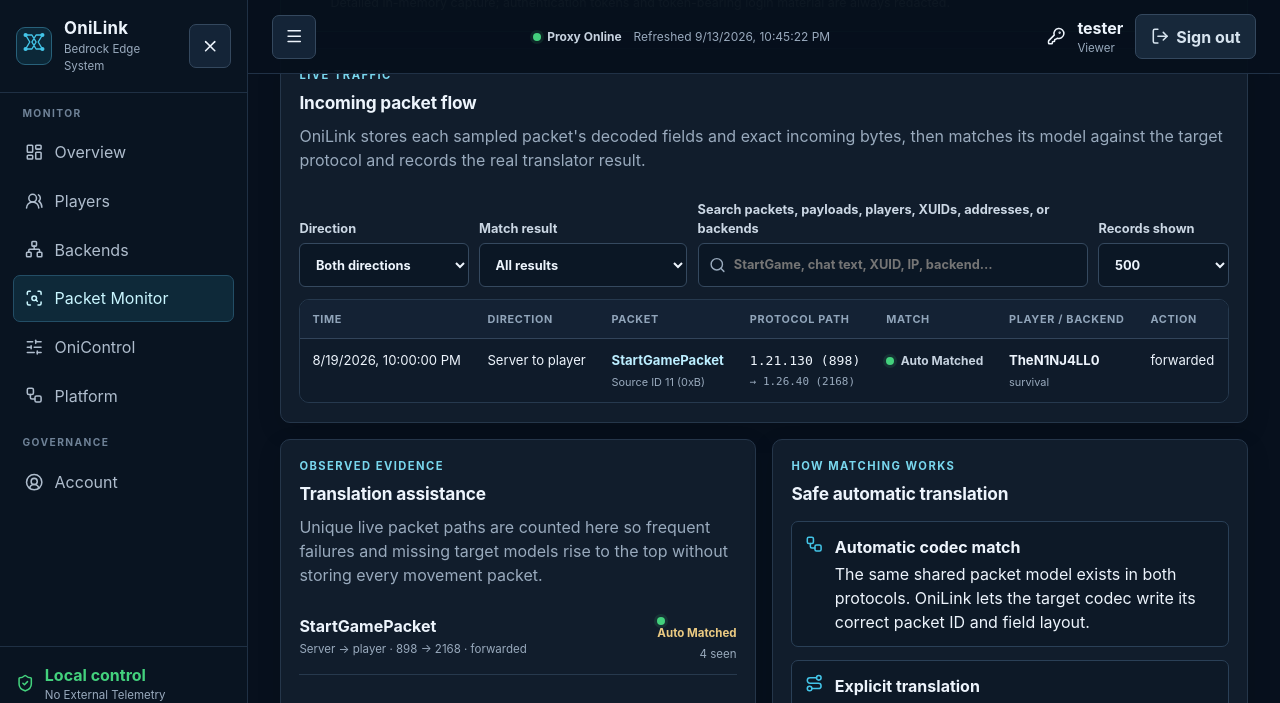
Test: monitoring features › shows live packet matches and the cross-version codec catalog
This screenshot has width=1280, height=703.
(page scrolled)
Expected: the text "Auto matched" is shown, [886,352,983,370]
Click the button "StartGamePacket" at (668, 361), box [612,351,724,371]
(page scrolled)
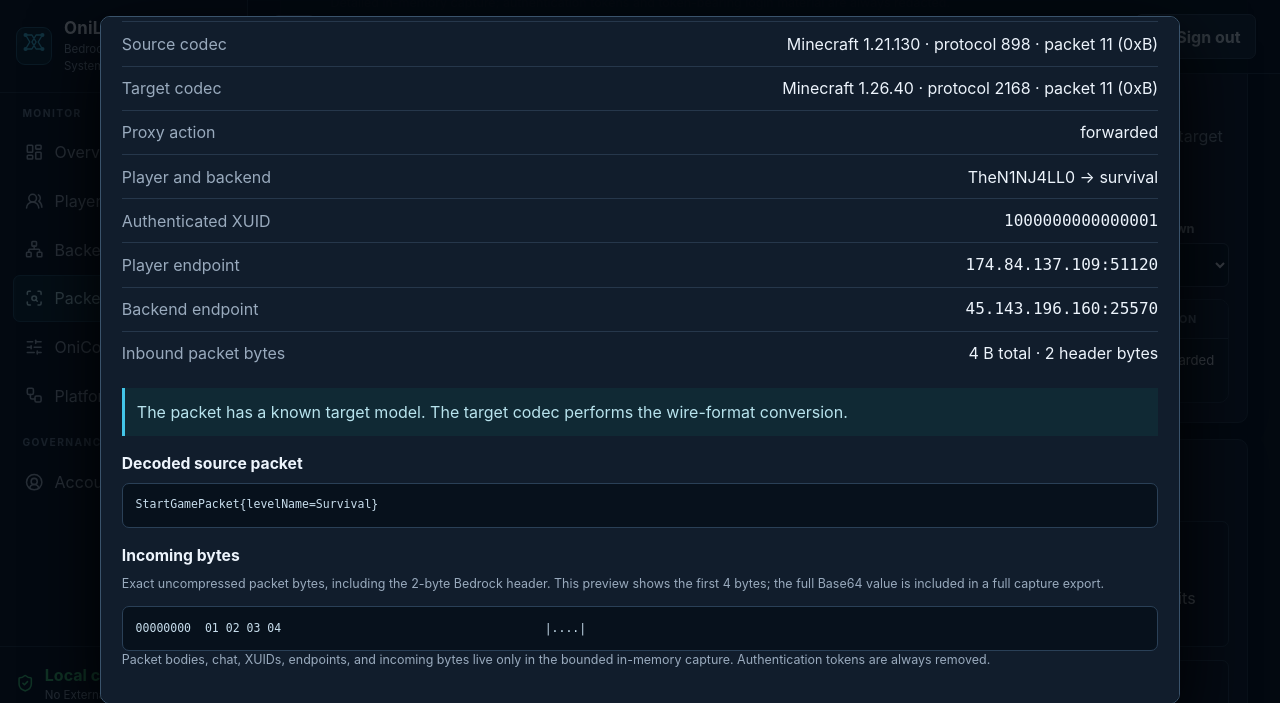
Expected: the text "1000000000000001" is shown, [1004,209,1158,233]
Expected: the text "StartGamePacket{levelName=Survival}" is shown, [122,482,1158,528]
Expected: the text "Authentication tokens are always removed" is shown, [122,652,990,667]
